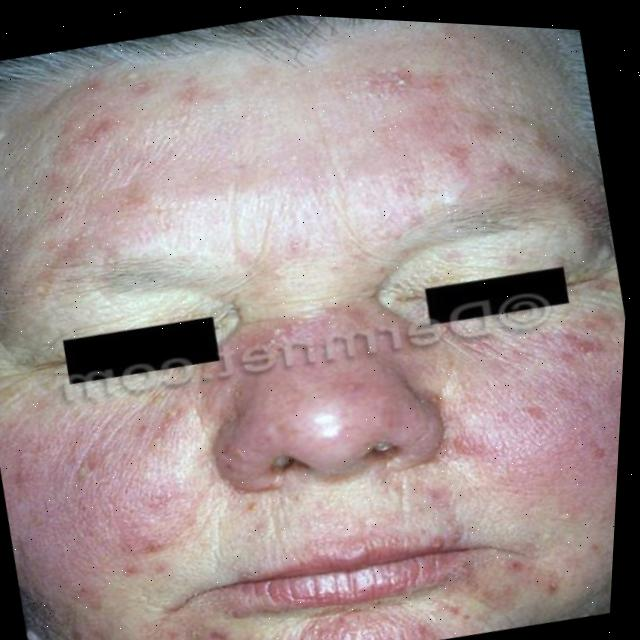Rosacea: (0, 261, 626, 605), (11, 53, 242, 251), (353, 39, 524, 198), (243, 577, 476, 640)
